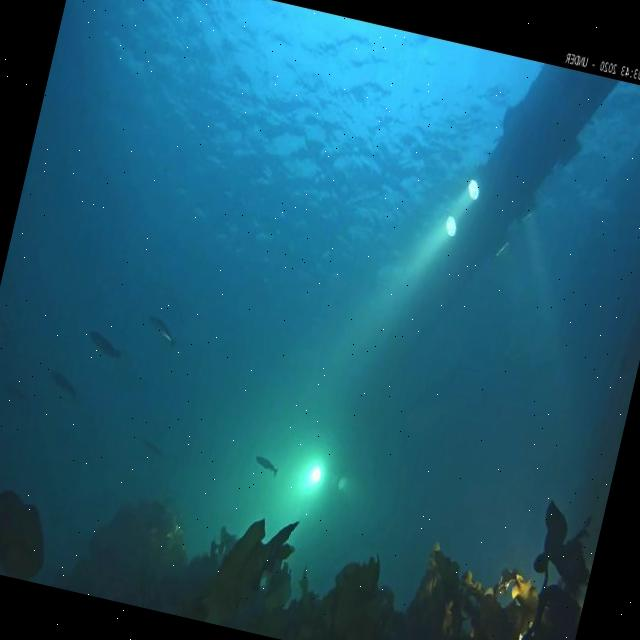fish: (84, 328, 125, 361), (144, 313, 176, 344), (251, 452, 281, 476), (44, 372, 76, 394)
